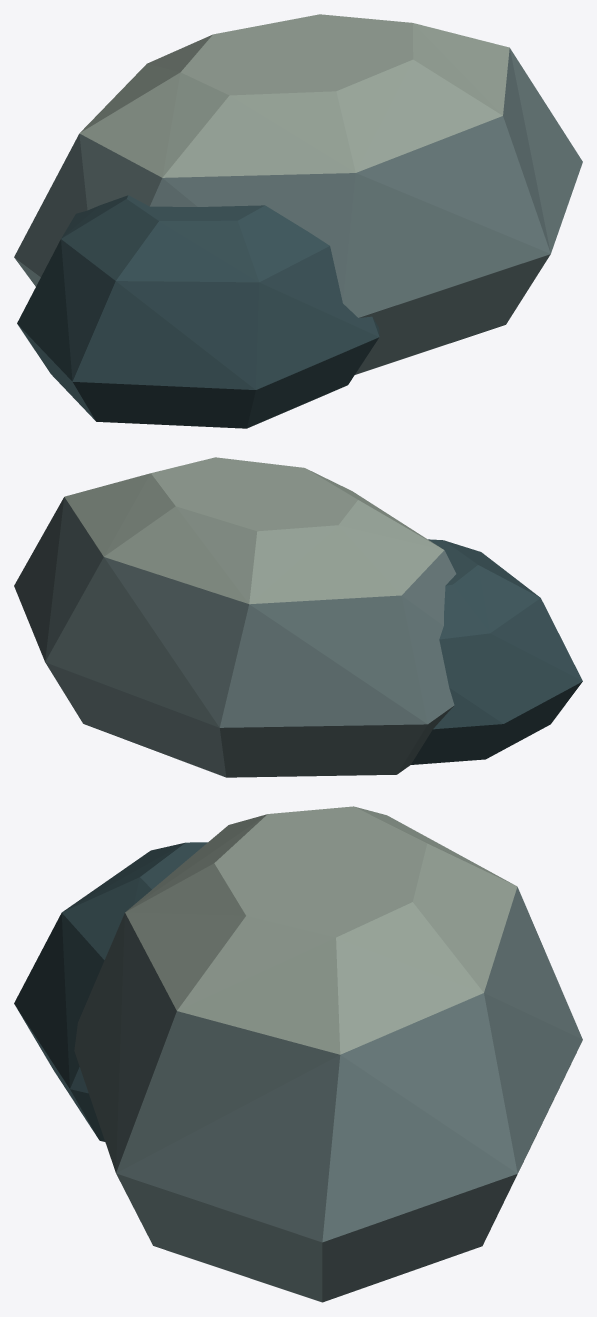
Rendered from wave-rock.glb.
3 renders of one model, top to bottom at view 1: azimuth 30°, elevation 25°; view 2: azimuth 150°, elevation 25°; view 3: azimuth 270°, elevation 25°, orthographic. The views are drawn at different scales.
Parts seen in each view (by area): view 1: wave-rock__body; view 2: wave-rock__body; view 3: wave-rock__body.
Boxes of the visible parts, bbox=[...] form: wave-rock__body: bbox=[14, 14, 582, 428]; wave-rock__body: bbox=[14, 457, 582, 777]; wave-rock__body: bbox=[14, 806, 582, 1302].
Bounding box in the file's own units: 1.47 × 0.6 × 1.04.
